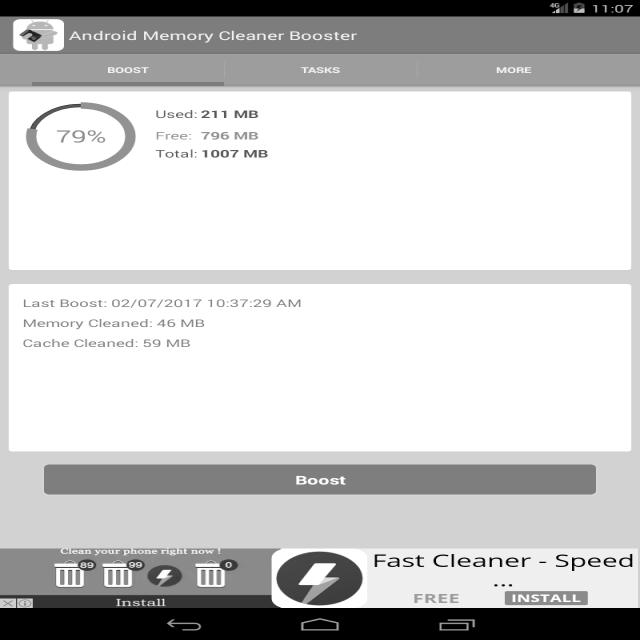Button: (36, 457, 609, 501), (493, 585, 599, 609)
ImageView: (38, 555, 244, 593), (276, 548, 366, 606), (13, 19, 64, 53)
Spinner: (16, 95, 140, 176)
TextView: (16, 290, 314, 354), (149, 100, 278, 164), (368, 546, 634, 570), (70, 27, 364, 47), (289, 59, 368, 81), (102, 61, 172, 81), (486, 58, 534, 77)
